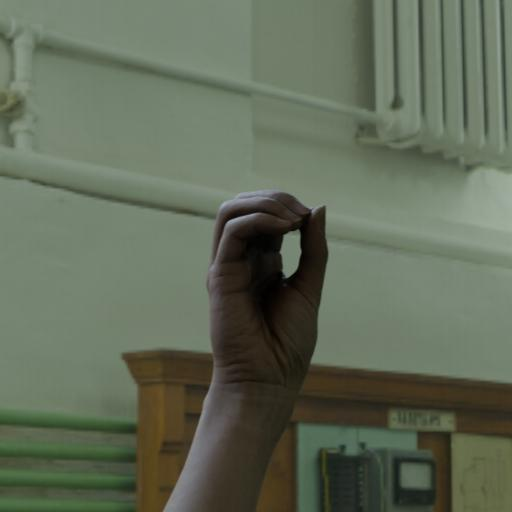O: (184, 179, 338, 406)
